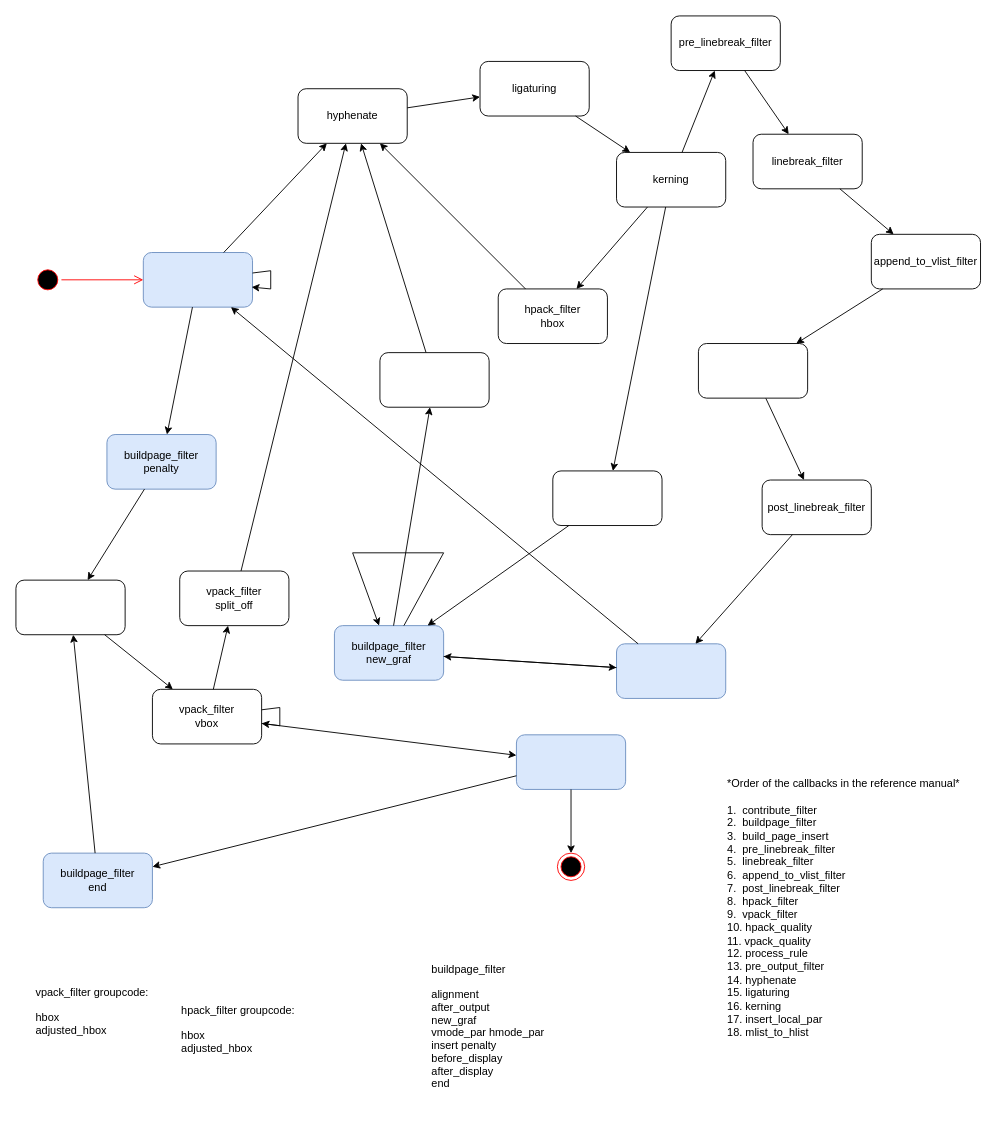
Image size: 1006x1124. Some labels were removed from this diagram. Each missing label, with the centre of its shape:
"buildpage_filter after_output" belongs at [571,761].
"buildpage_filter hmode_par" belongs at [671,670].
"buildpage_filter vmode_par" belongs at [197,279].
"contribute_filter" belongs at [753,370].
"insert_local_par new_graf" belongs at [607,498].
"mlist_to_hlist" belongs at [434,379].
"pre_output_filter" belongs at [70,607].
